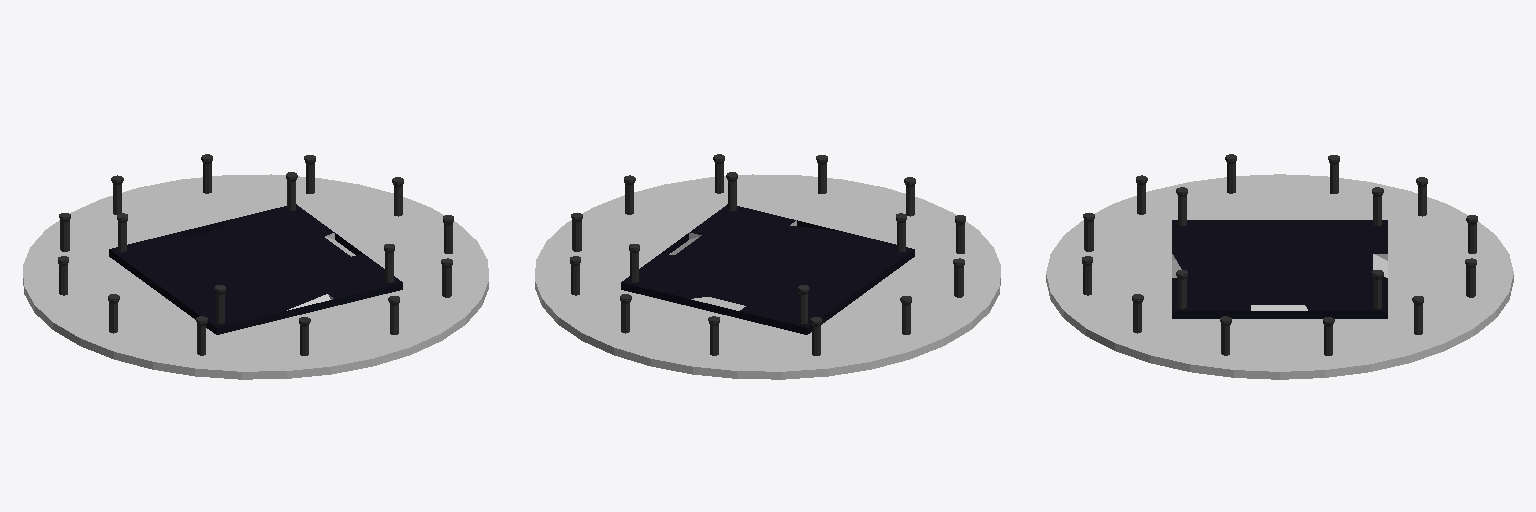
The model's file is map_draft.obj.
The picture shows the model from 3 angles: view 1: azimuth 30°, elevation 25°; view 2: azimuth 150°, elevation 25°; view 3: azimuth 270°, elevation 25°; orthographic projection.
Parts seen in each view (by area): view 1: MainPlat-col_Ground, Dais-col_DaisMaterial, DaisPillars-col_BaseMaterial; view 2: MainPlat-col_Ground, Dais-col_DaisMaterial, DaisPillars-col_BaseMaterial; view 3: MainPlat-col_Ground, Dais-col_DaisMaterial, DaisPillars-col_BaseMaterial, Dais-col_.
Boxes of the visible parts, <box> form: MainPlat-col_Ground: <box>23,174,488,379</box>; Dais-col_DaisMaterial: <box>109,204,402,334</box>; DaisPillars-col_BaseMaterial: <box>117,172,394,323</box>; MainPlat-col_Ground: <box>535,174,1000,379</box>; Dais-col_DaisMaterial: <box>621,204,914,334</box>; DaisPillars-col_BaseMaterial: <box>629,172,906,323</box>; MainPlat-col_Ground: <box>1046,174,1513,379</box>; Dais-col_DaisMaterial: <box>1172,220,1387,318</box>; DaisPillars-col_BaseMaterial: <box>1176,187,1383,308</box>; Dais-col_: <box>1172,254,1387,310</box>.
Size of the model in its own units: 28.72 by 3.39 by 28.72.